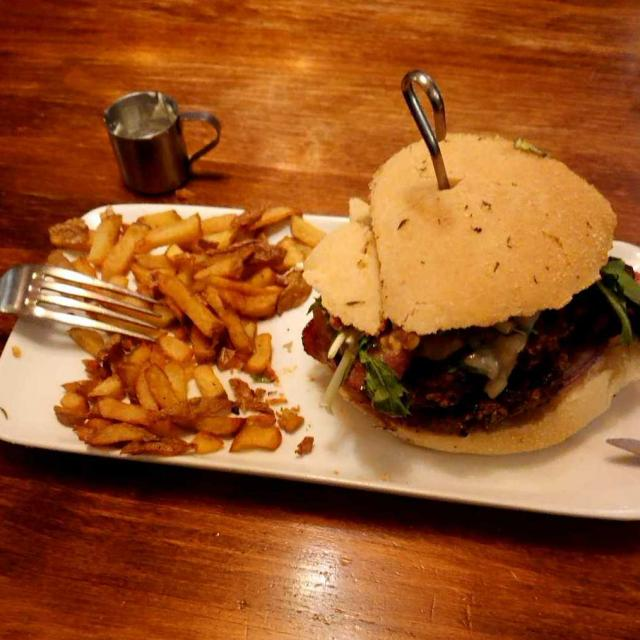chips-french-fries: (54, 208, 299, 453)
hamburger-bread-meat-ketchup: (307, 140, 632, 452)
